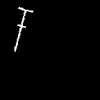double_crochet: (15, 7, 32, 50)
